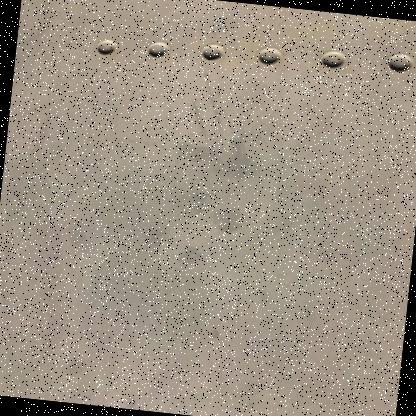Nocrack: (0, 6, 413, 408)
